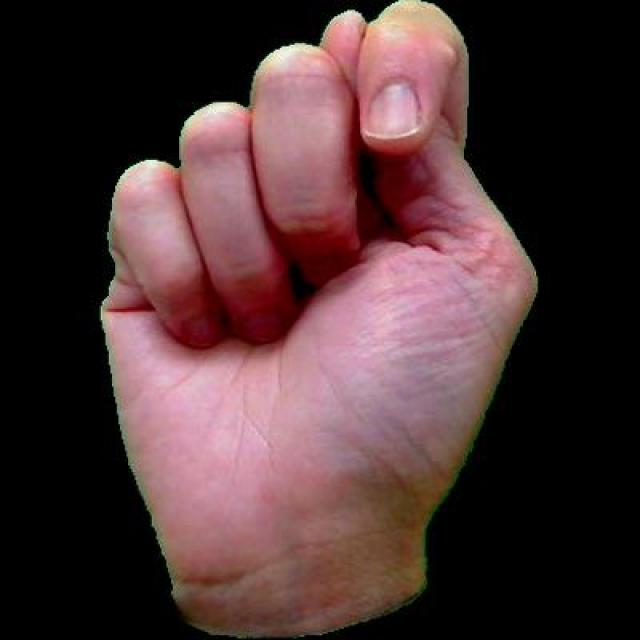t: (74, 0, 547, 637)
